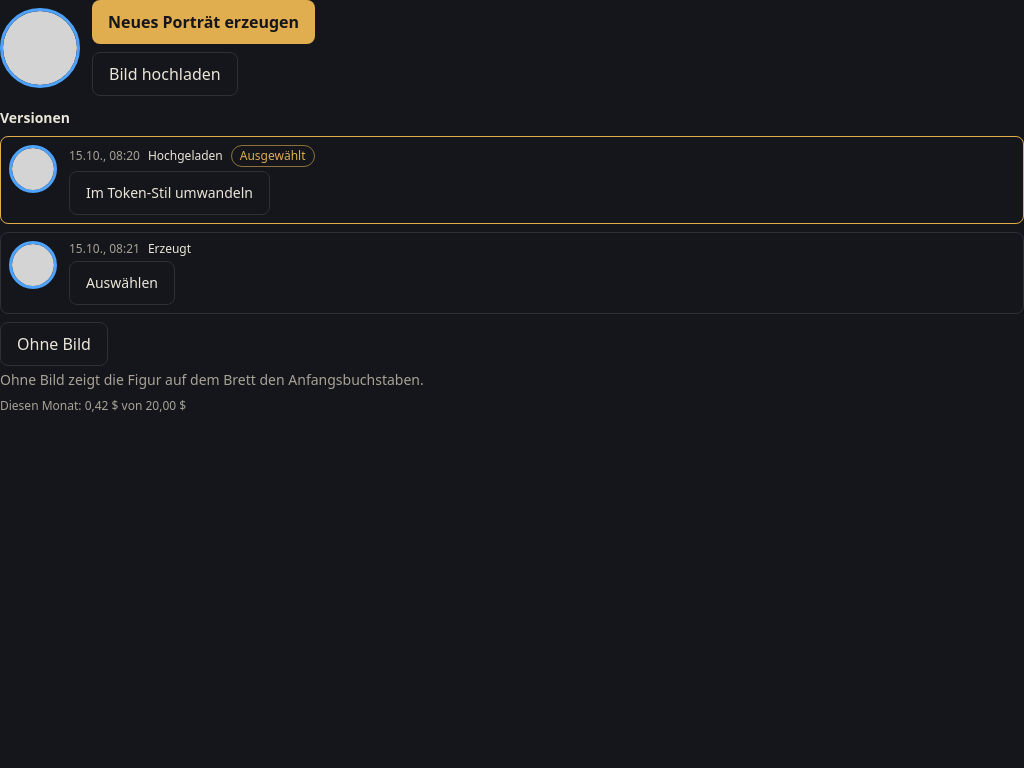
generating › restyles an uploaded version after confirming
Click the button "Im Token-Stil umwandeln": coordinates (169, 193) [69,171,270,215]
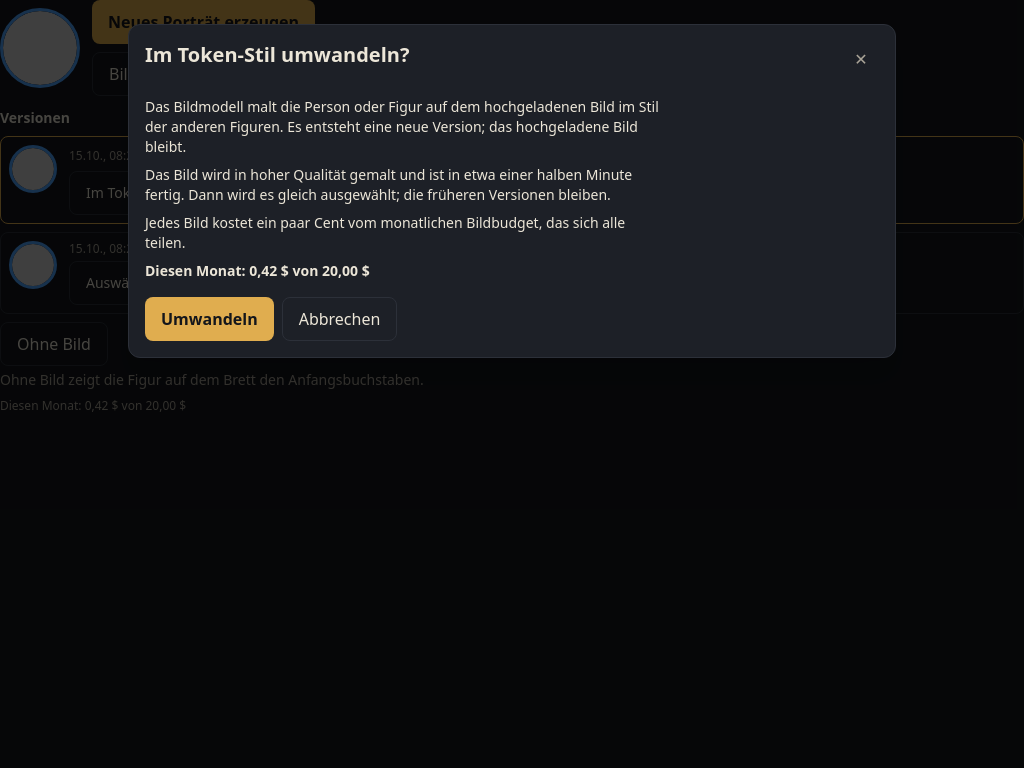
Click the button "Umwandeln": coordinates (209, 319) [145,297,274,341]
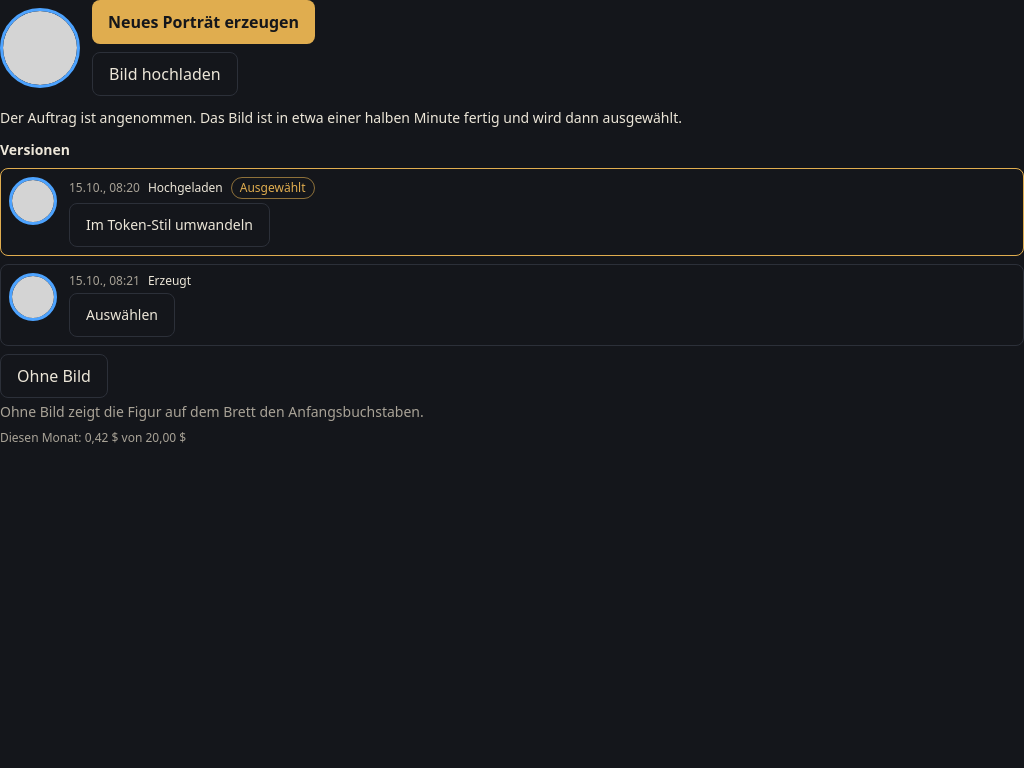
Now the text "Der Auftrag ist angenommen. Das Bild ist in etwa einer halben Minute fertig und wird dann ausgewählt." is shown, box [0,108,682,127]
